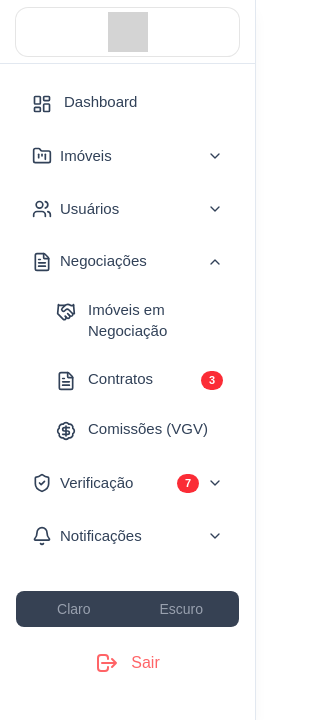
Test: Sidebar › mostra somente o contador 3 de correções no item Contratos
The image size is (320, 720).
Expected: the text "7" is shown, x1=177 y1=474 x2=199 y2=493
Click the button "Verificação 7".
click(128, 483)  # box x1=16 y1=461 x2=239 y2=506
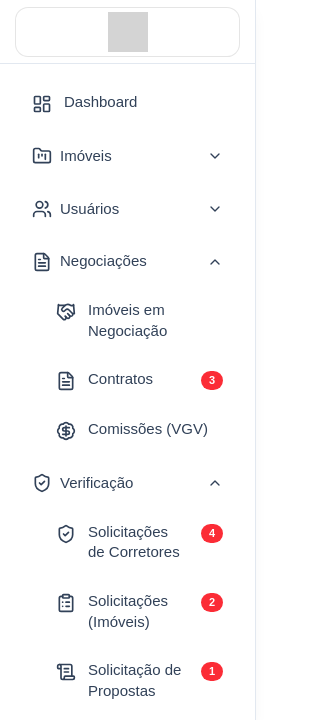
Result: the text "4" is shown at x1=201 y1=524 x2=223 y2=543
Result: the text "2" is shown at x1=201 y1=593 x2=223 y2=612
Result: the text "1" is shown at x1=201 y1=662 x2=223 y2=681
